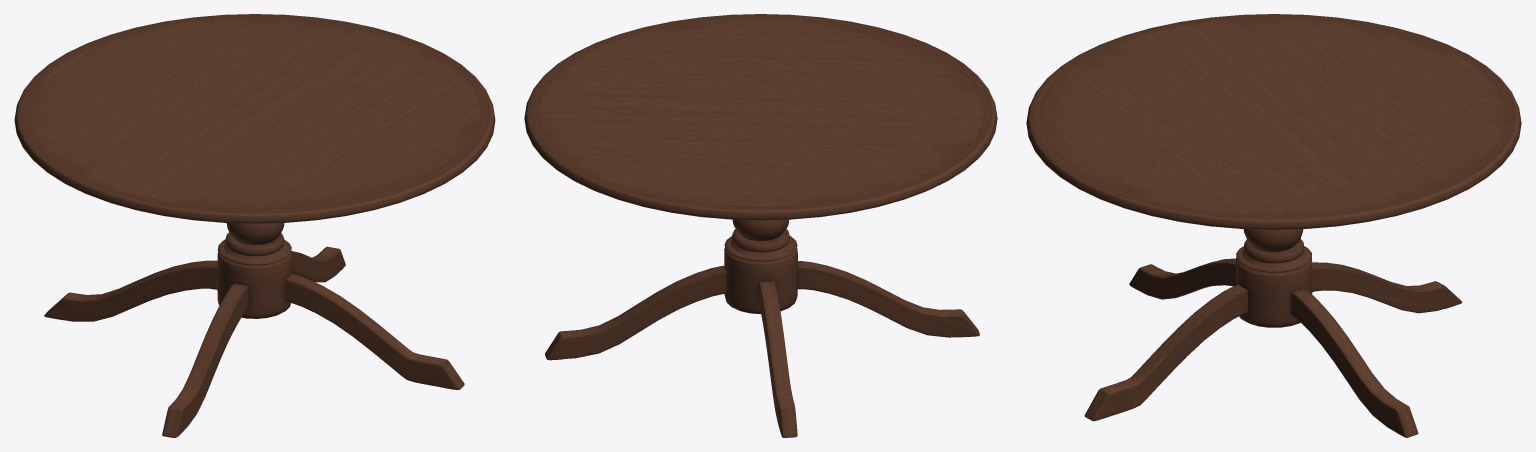
The model's file is dining-table-round.glb.
3 views of the same model, side by side, from view 1: azimuth 30°, elevation 25°; view 2: azimuth 150°, elevation 25°; view 3: azimuth 270°, elevation 25° (orthographic). The views are drawn at different scales.
Parts seen in each view (by area): view 1: round_wooden_table_01; view 2: round_wooden_table_01; view 3: round_wooden_table_01.
Part boxes in pixels (x1,y1,x2,y2): round_wooden_table_01: (14,14,495,437); round_wooden_table_01: (524,14,997,437); round_wooden_table_01: (1026,14,1521,437).
Bounding box in the file's own units: 1.4 × 0.7638 × 1.4.
Materials: 1 (1 with a texture image).
